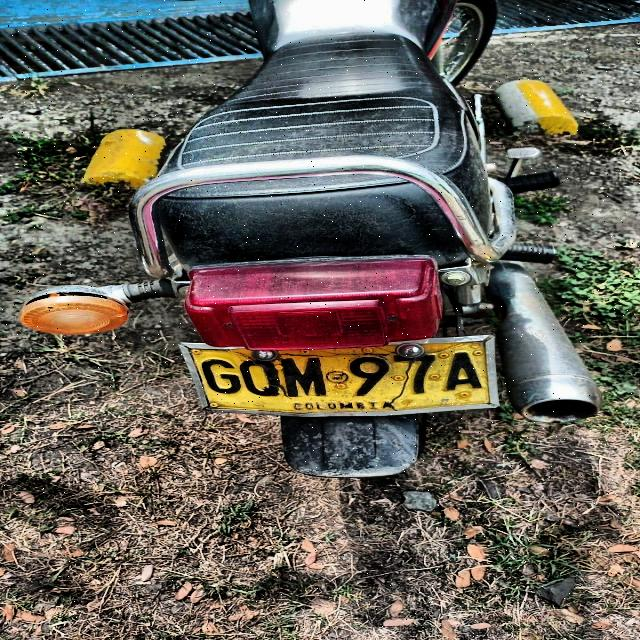7: (390, 354, 439, 396)
9: (346, 355, 392, 397)
A: (437, 350, 486, 393)
G: (197, 357, 246, 395)
M: (278, 355, 331, 398)
Q: (238, 359, 284, 399)
